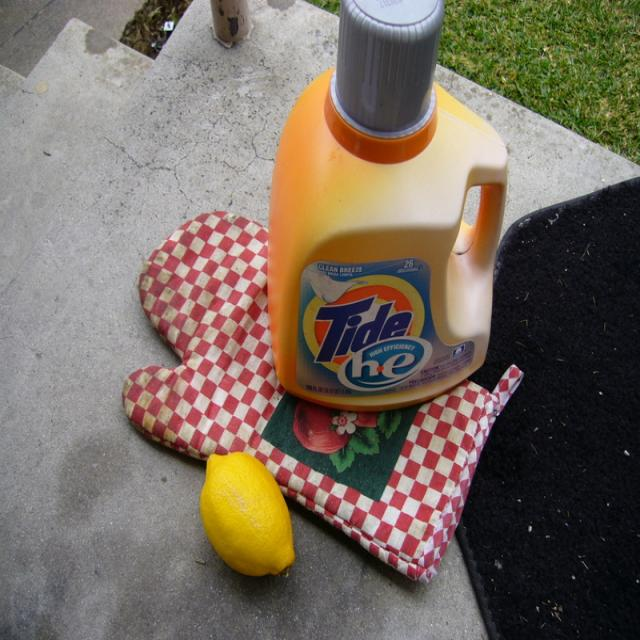container -lemon: (268, 0, 507, 409)
